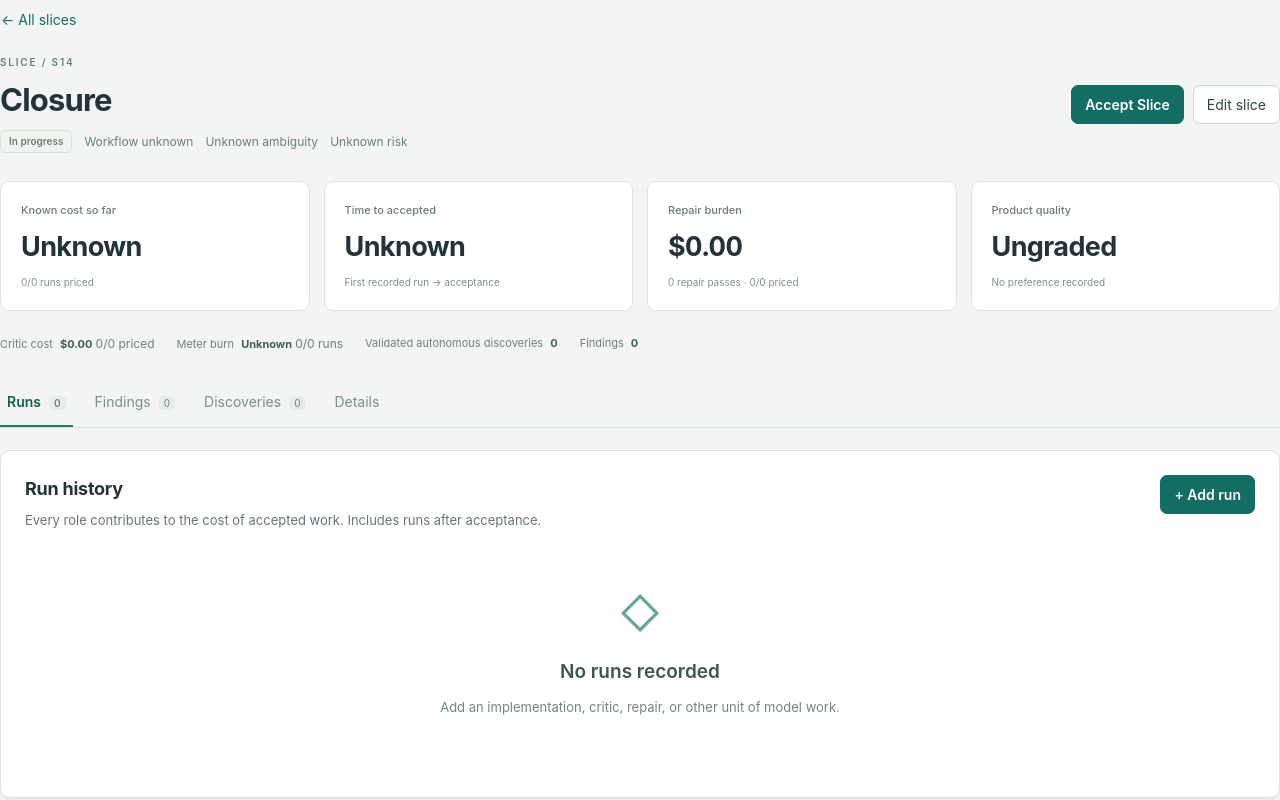
Test: shows a failed save and does not present acceptance as complete
The image size is (1280, 800).
Click the button "Accept Slice". click: {"x": 1127, "y": 104}
box: left=1071, top=85, right=1184, bottom=124
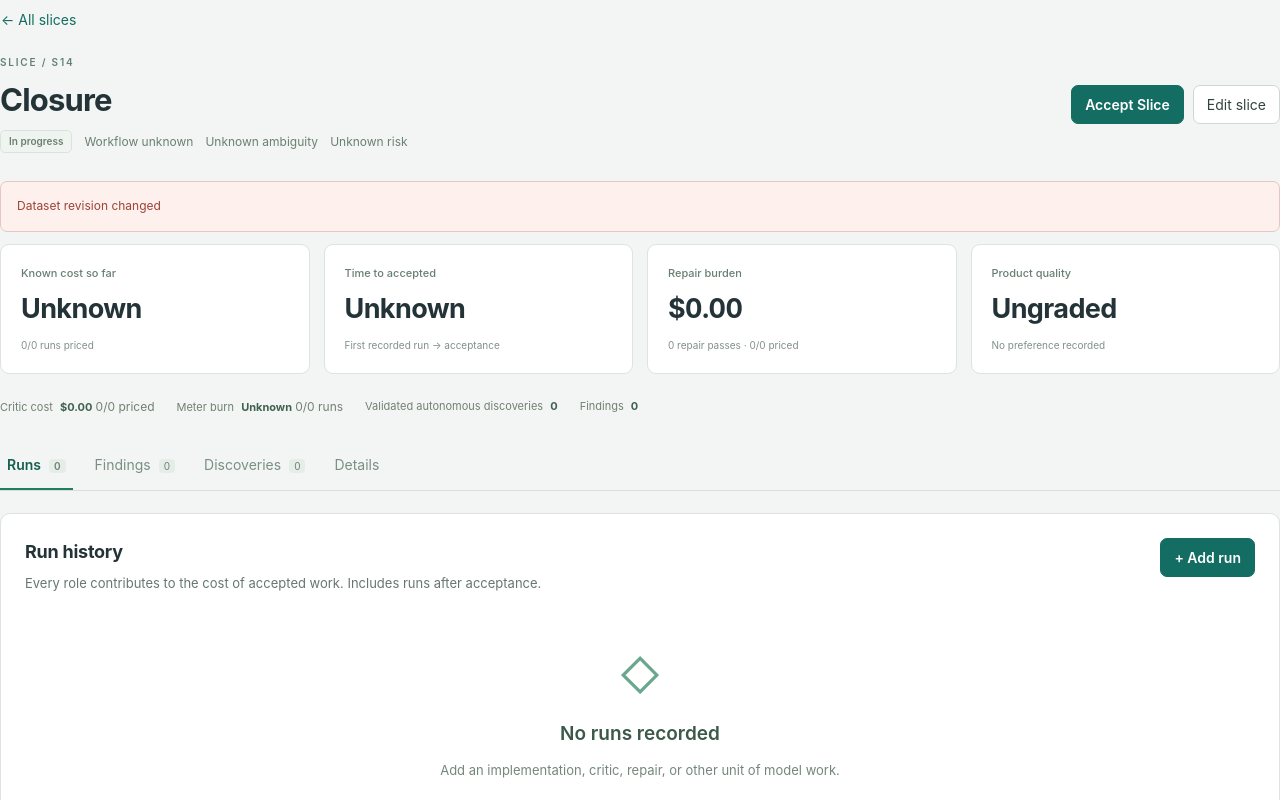
Expected: the message reads "Dataset revision changed", left=17, top=198, right=161, bottom=213
